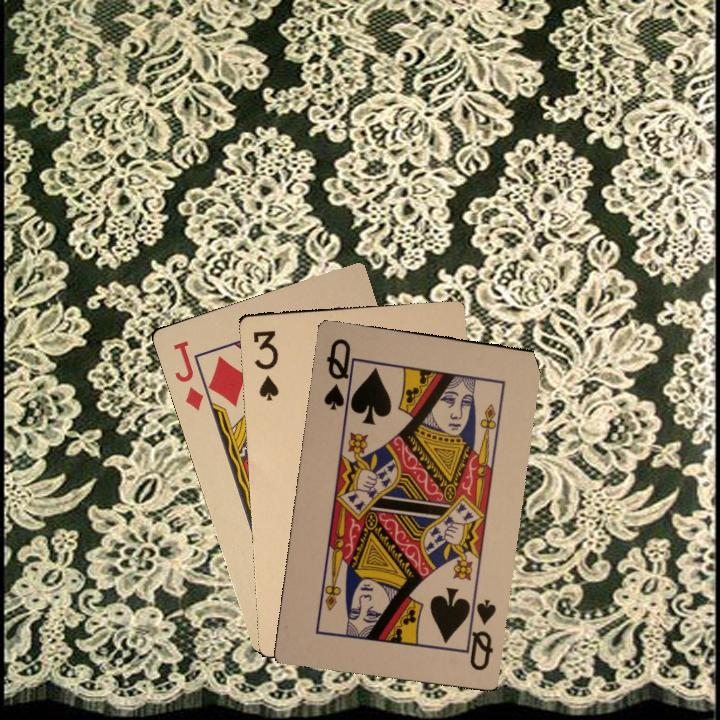3s: (249, 327, 281, 403)
Jd: (169, 336, 206, 413)
Qs: (457, 594, 499, 674), (320, 334, 357, 416)
